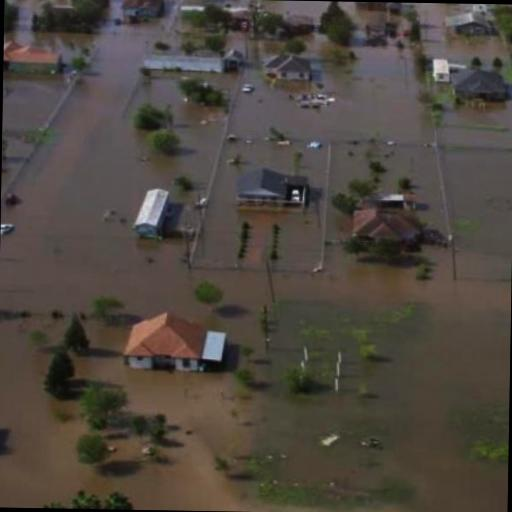flood: (0, 19, 512, 512), (405, 3, 512, 75), (2, 74, 65, 132), (265, 0, 329, 14)
house: (118, 310, 235, 370), (232, 168, 312, 211), (350, 200, 424, 246), (132, 182, 174, 242), (3, 40, 64, 76), (456, 68, 508, 102), (266, 52, 314, 84), (116, 0, 168, 28), (446, 8, 492, 36), (222, 46, 248, 71), (360, 2, 400, 10)
